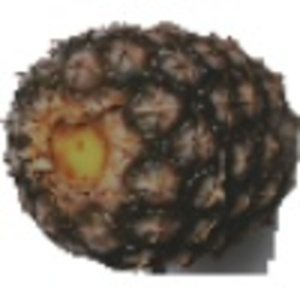abacaxi: (3, 14, 297, 275)
